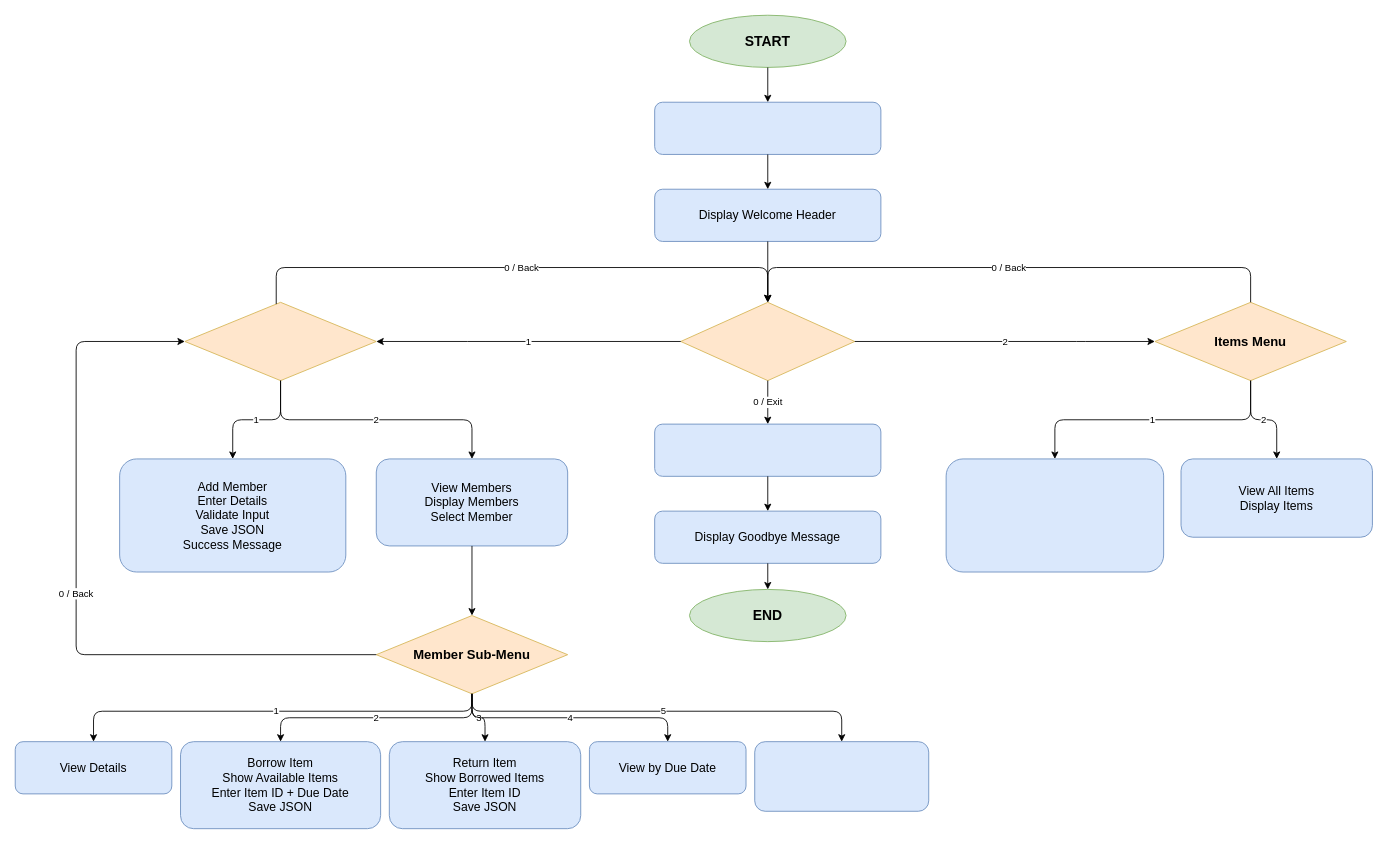
Some shapes in this 1388 by 844 pixel diagram are drawn without their labels. The centre of each missing label's shape, as x and y in pixels:
"Add Item Enter Title + Author Validate Input Save JSON Success Message" goes at pixel 1054 515.
"Delete Member Remove Member Save JSON" goes at pixel 841 776.
"Load data from JSON" goes at pixel 767 127.
"Main Menu" goes at pixel 767 341.
"Members Menu" goes at pixel 280 341.
"Save data to JSON" goes at pixel 767 449.
